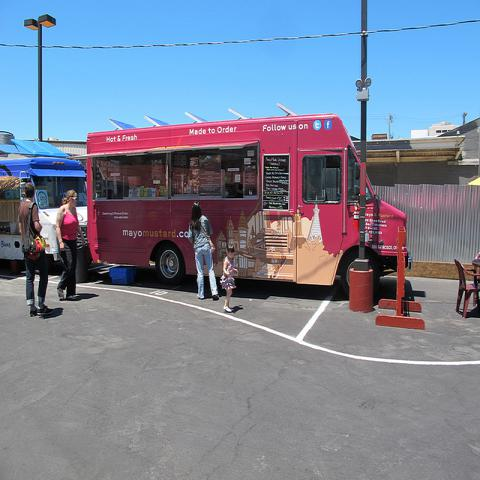bus: (81, 112, 411, 294), (0, 159, 92, 264)
truck: (85, 119, 412, 304), (0, 138, 101, 283)
